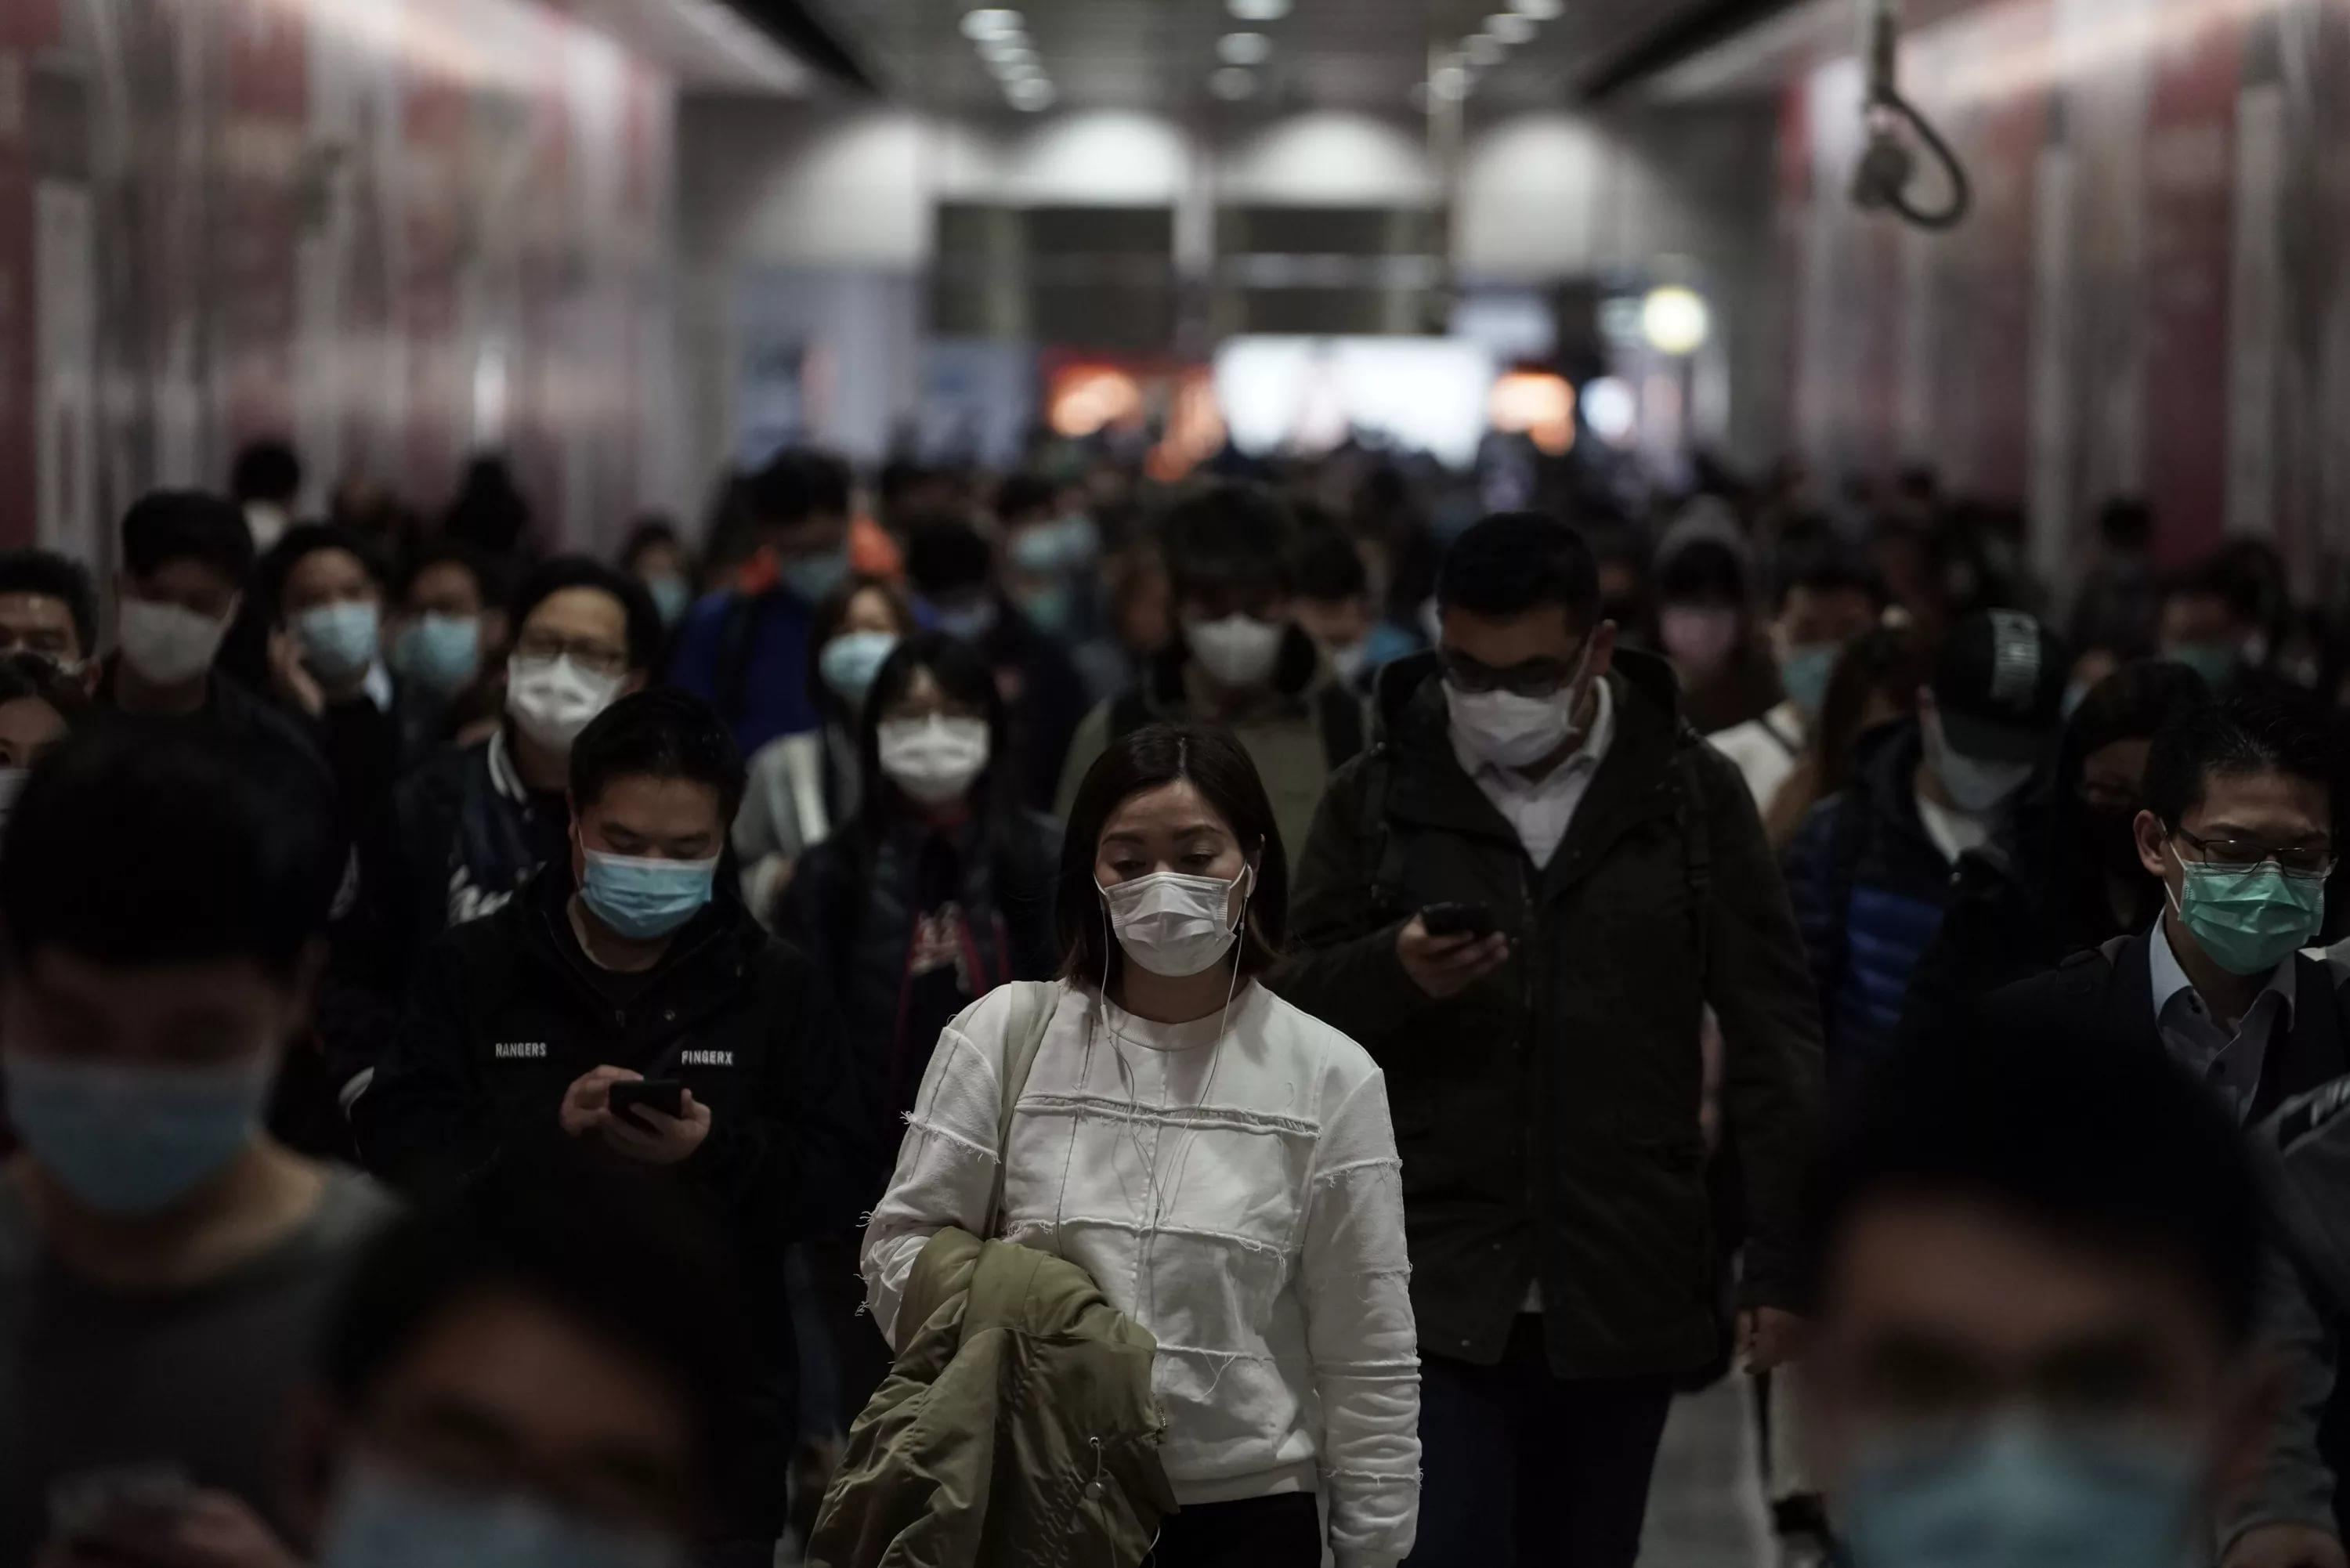mask: (2152, 759, 2327, 969), (1101, 772, 1255, 978), (1435, 586, 1589, 772), (584, 773, 735, 941), (103, 537, 236, 681), (507, 598, 626, 733), (875, 658, 994, 791), (1174, 555, 1291, 689), (275, 544, 392, 677)
